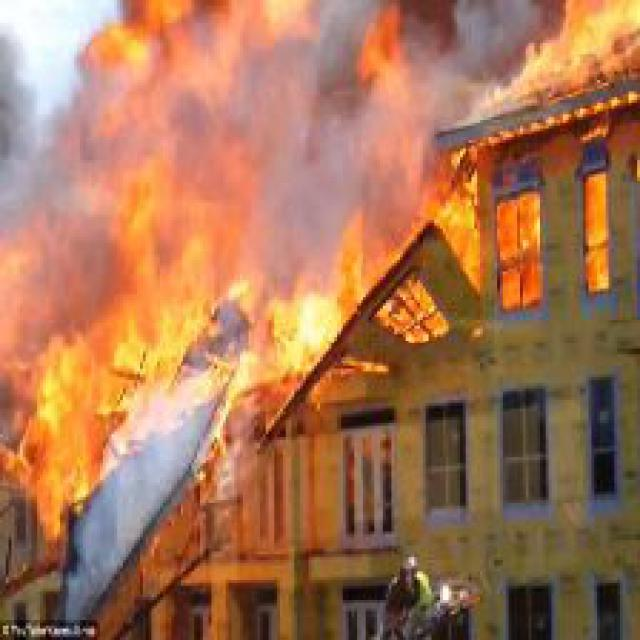fire: (3, 3, 483, 548), (472, 3, 637, 148)
